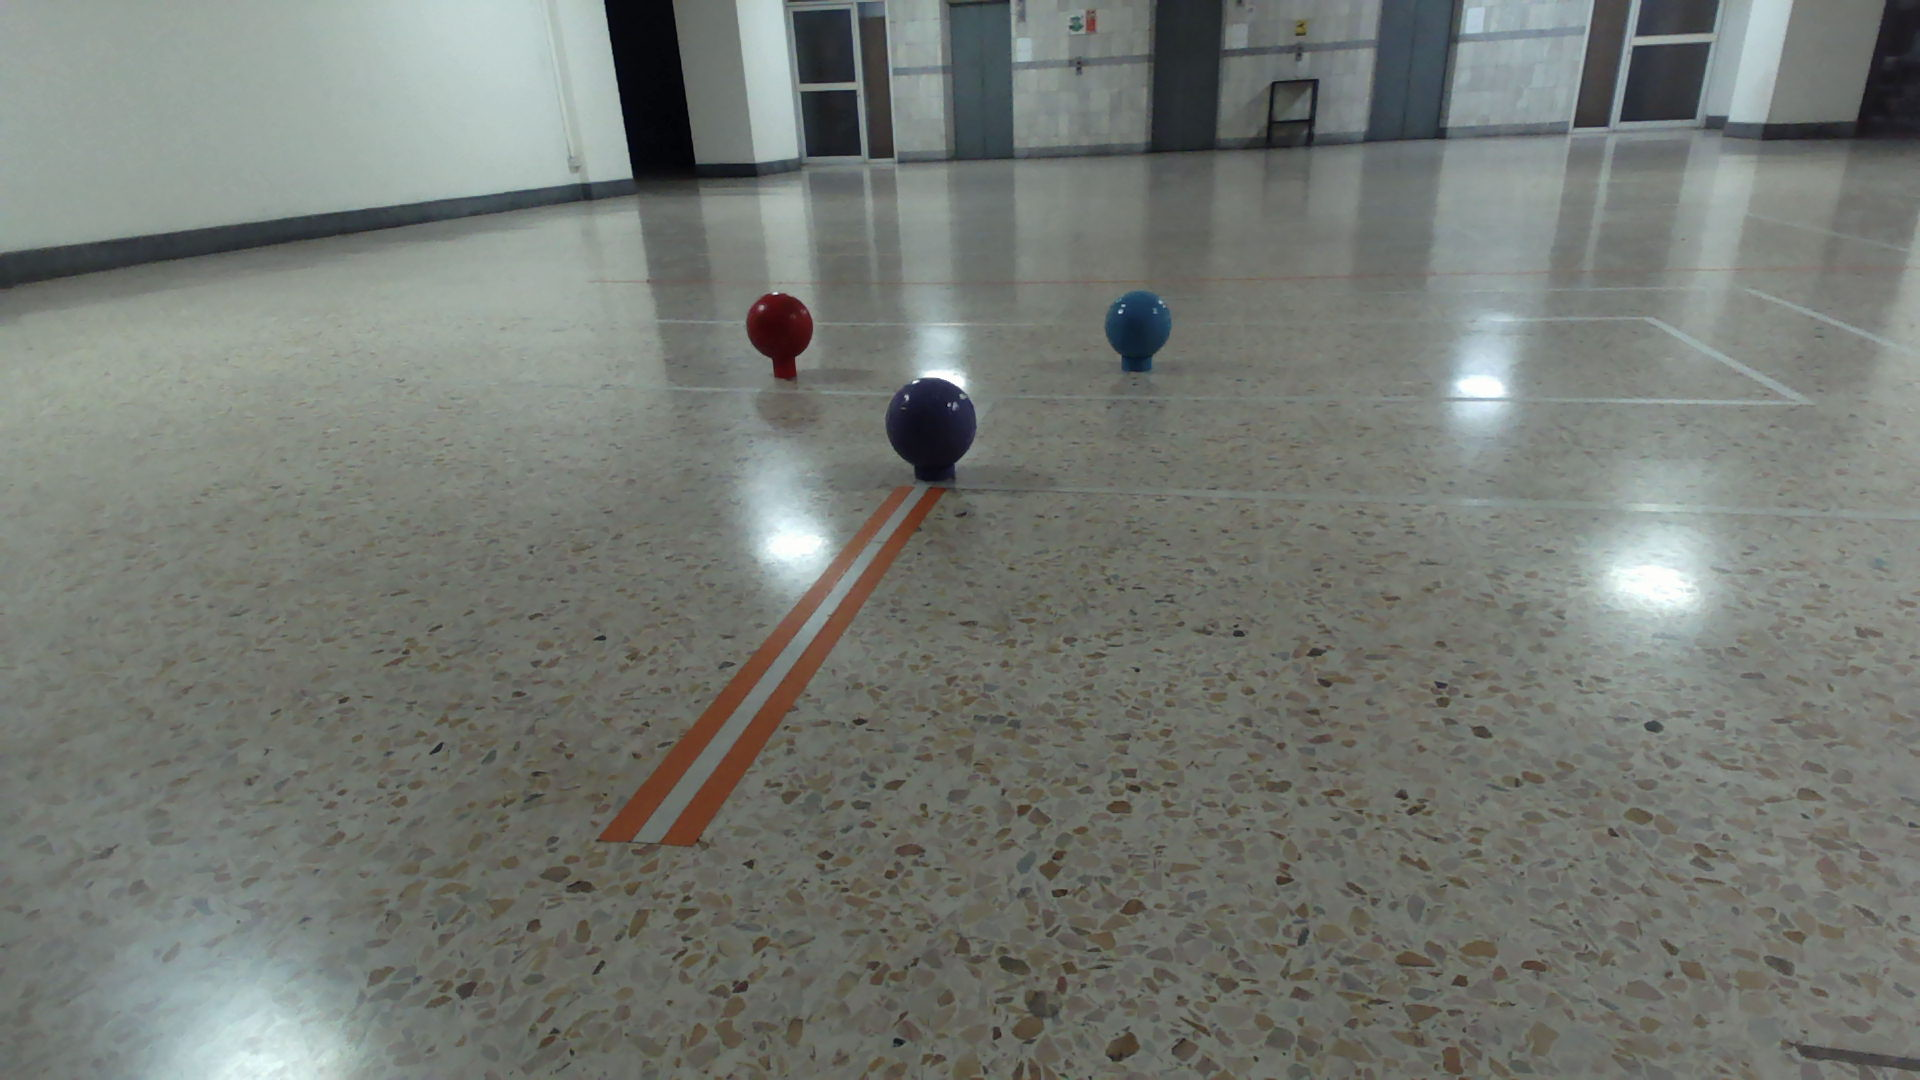Blue ball: (1102, 289, 1172, 359)
Purple ball: (882, 375, 977, 469)
Red ball: (744, 290, 815, 361)
